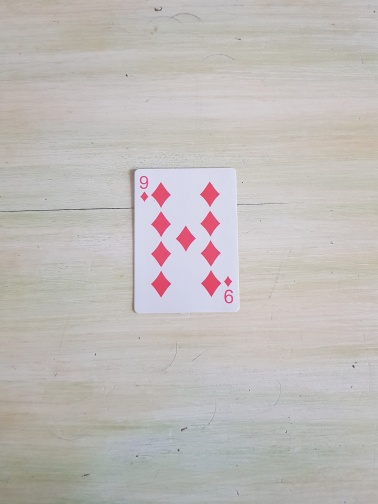nine: (132, 168, 240, 315)
